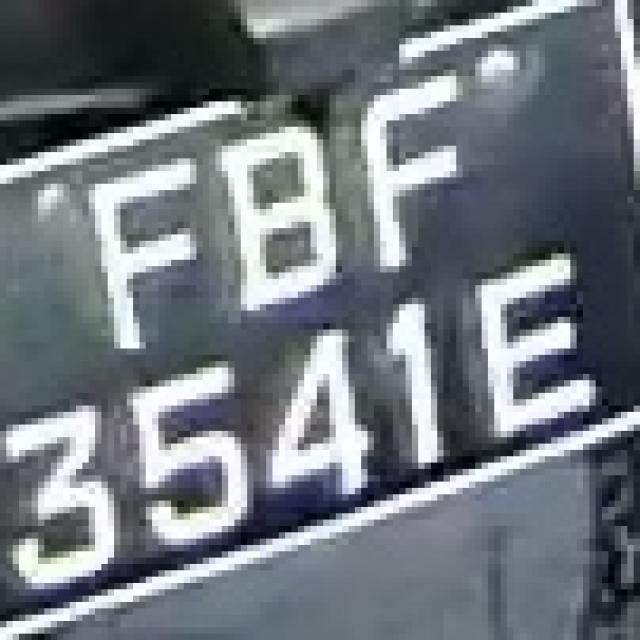1: (380, 266, 444, 475)
3: (13, 381, 133, 608)
4: (247, 310, 374, 520)
5: (114, 342, 254, 551)
B: (203, 120, 361, 324)
E: (456, 254, 615, 444)
F: (342, 76, 494, 279), (76, 146, 215, 355)
